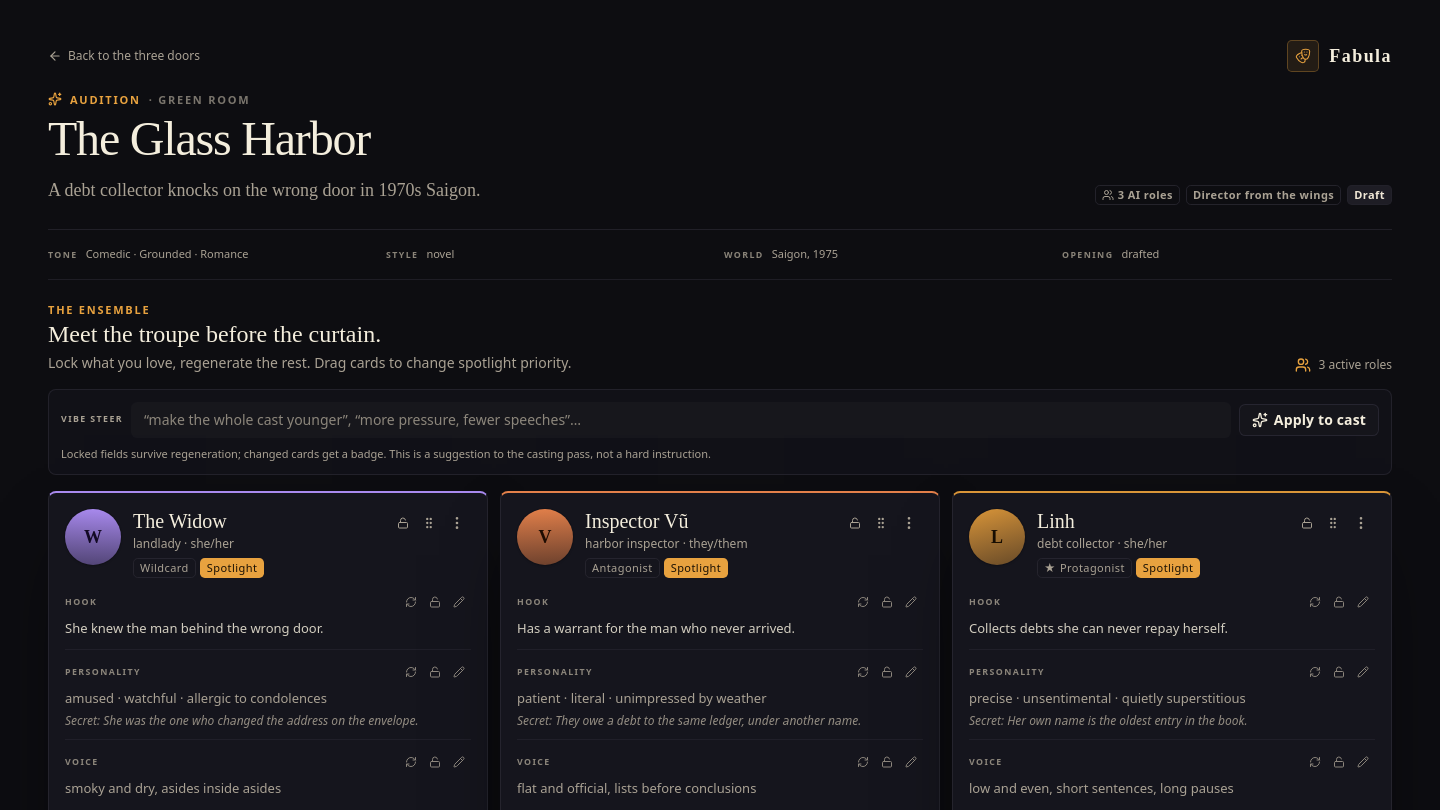
Test: audition grid › moves a role off-stage and restores it
What coordinates should you click on to do the following:
click the button named "More actions for The Widow"
I would click on:
 (457, 523)
Its box is [443,509,471,537].
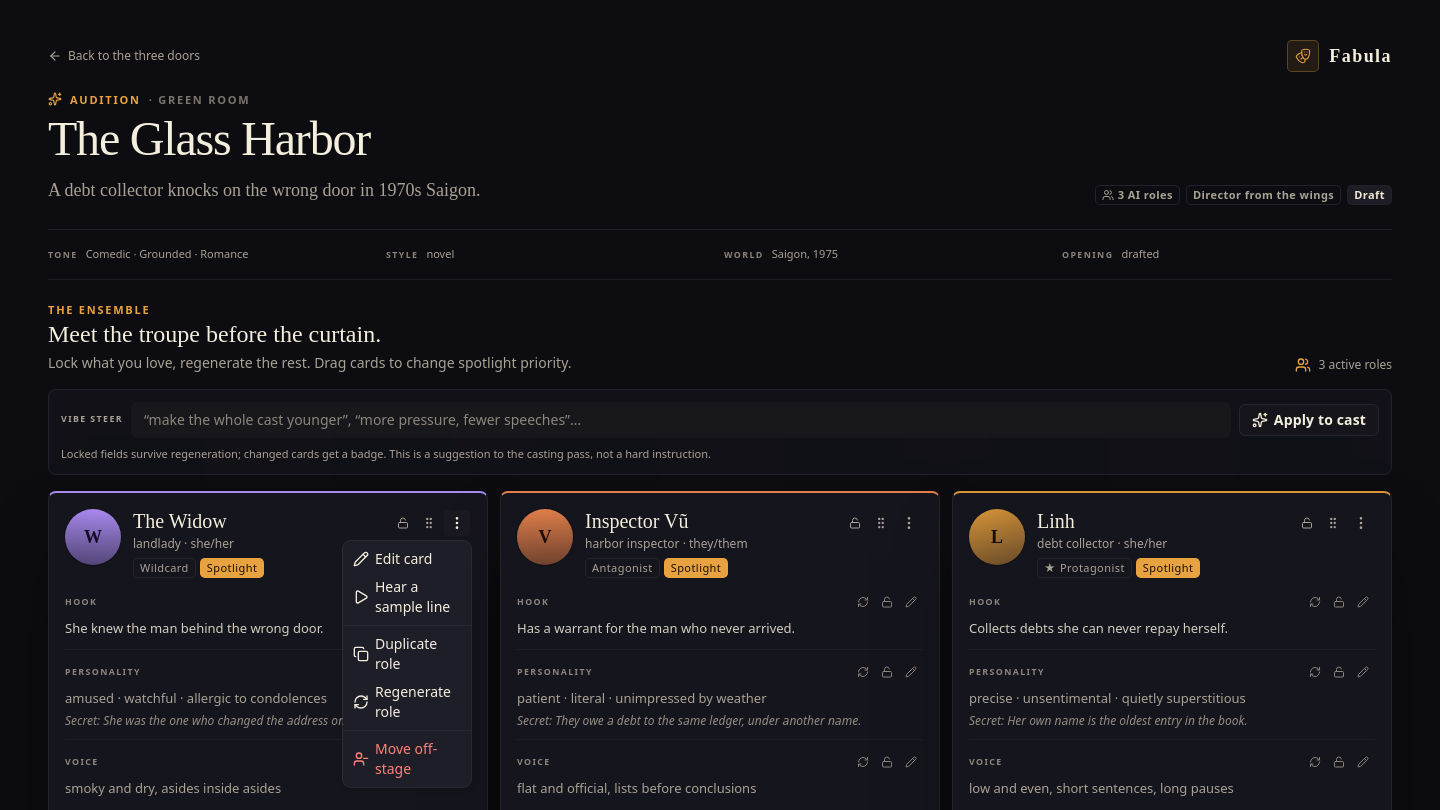
What coordinates should you click on to do the following:
click the menu item "Move off-stage"
I would click on:
 (395, 758)
Its box is [353,739,437,778].
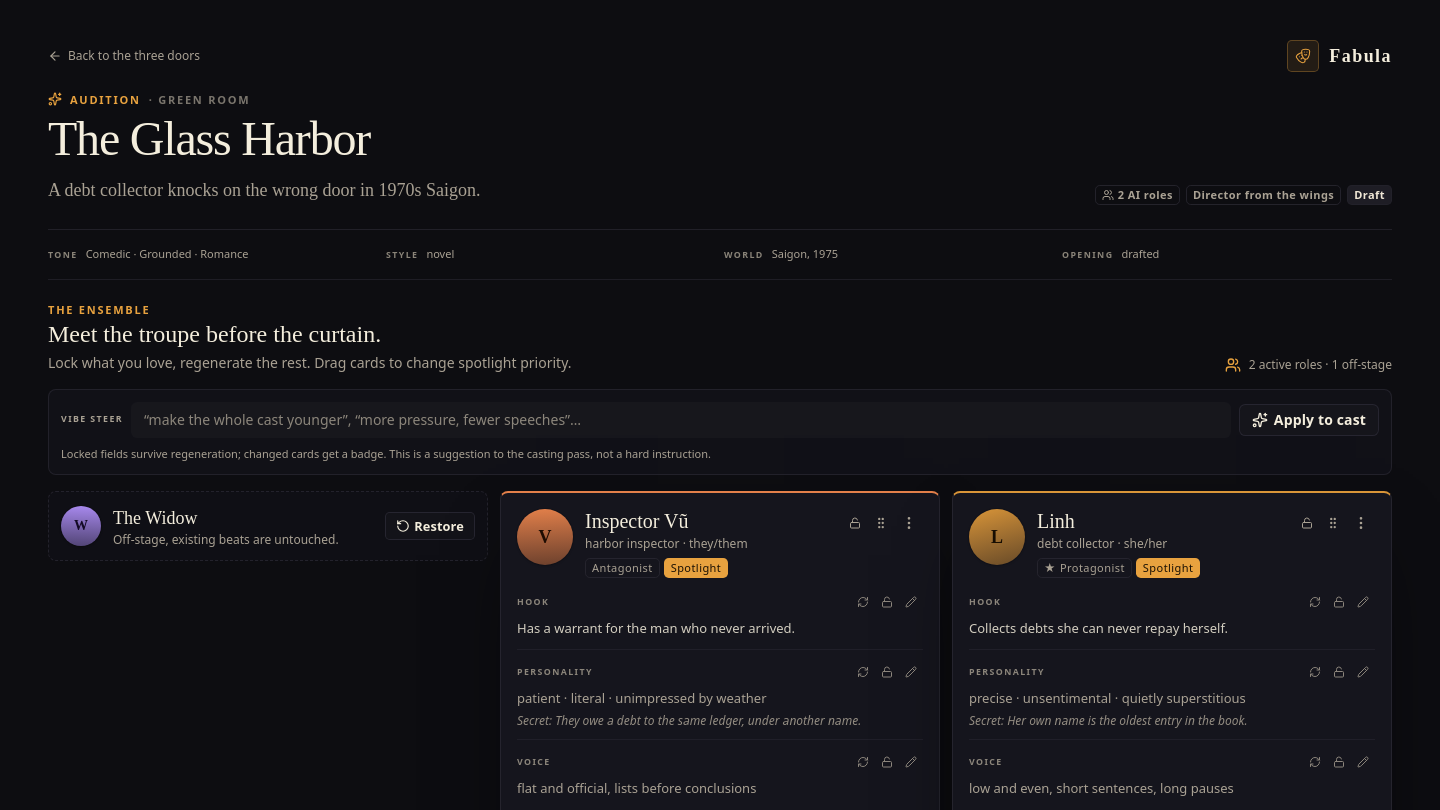
Expected: the text "Off-stage, existing beats are untouched." is shown, [113,532,373,548]
What coordinates should you click on to do the following:
click the button "Restore"
I would click on:
 (430, 526)
Its box is [385,512,475,540].
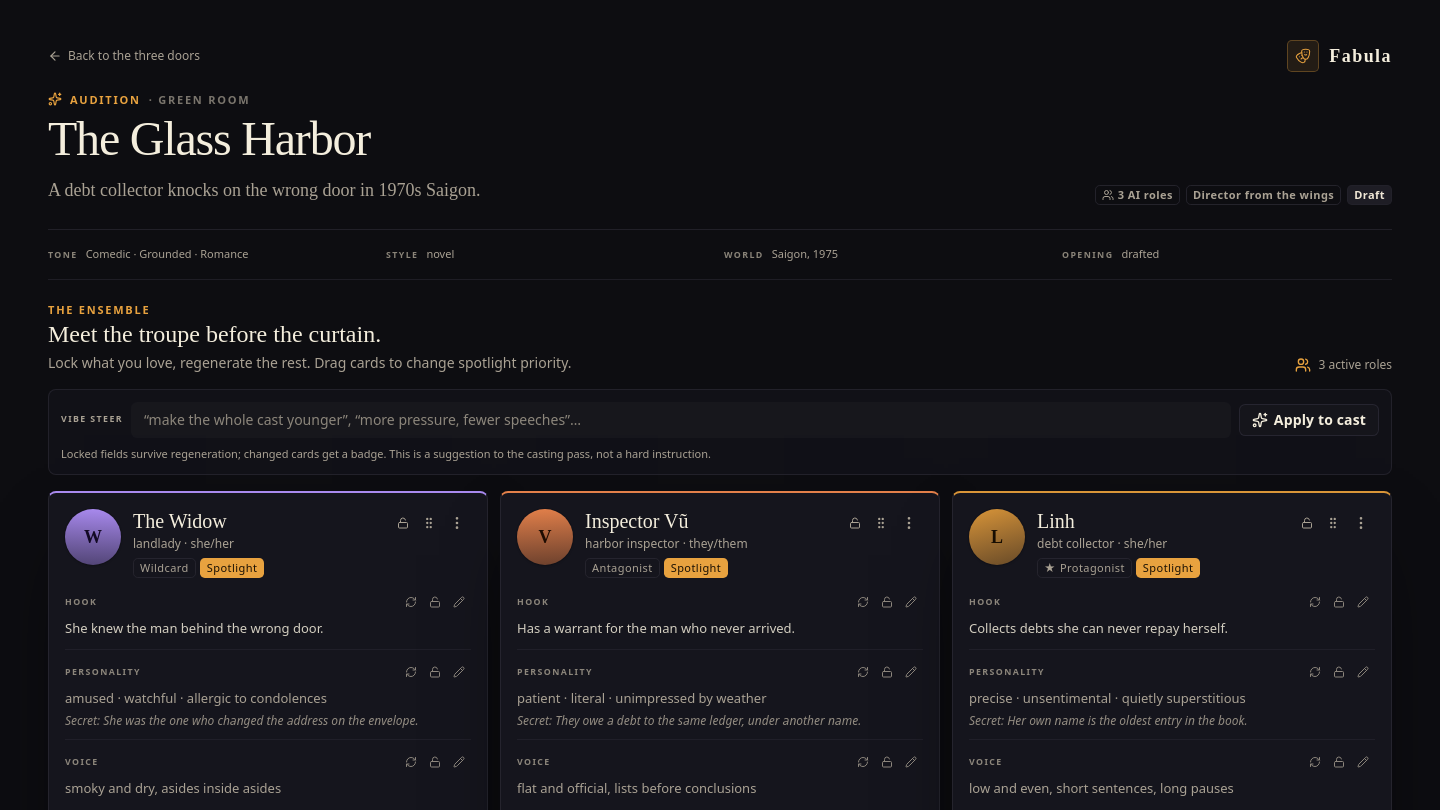
Expected: the text "Off-stage, existing beats" is gone
